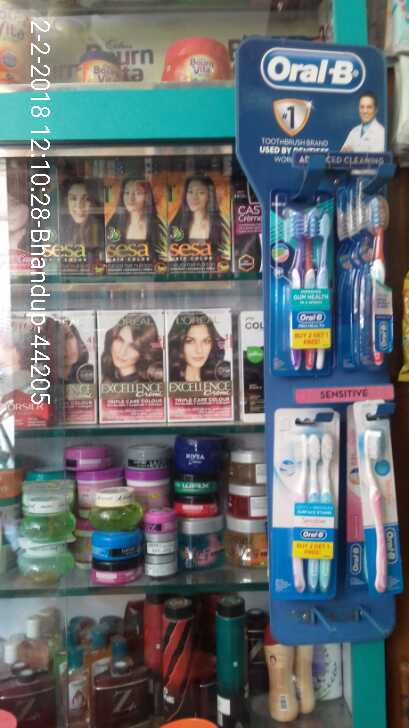oralb: (278, 415, 332, 590), (359, 417, 400, 589), (351, 201, 389, 364), (283, 204, 318, 363)
